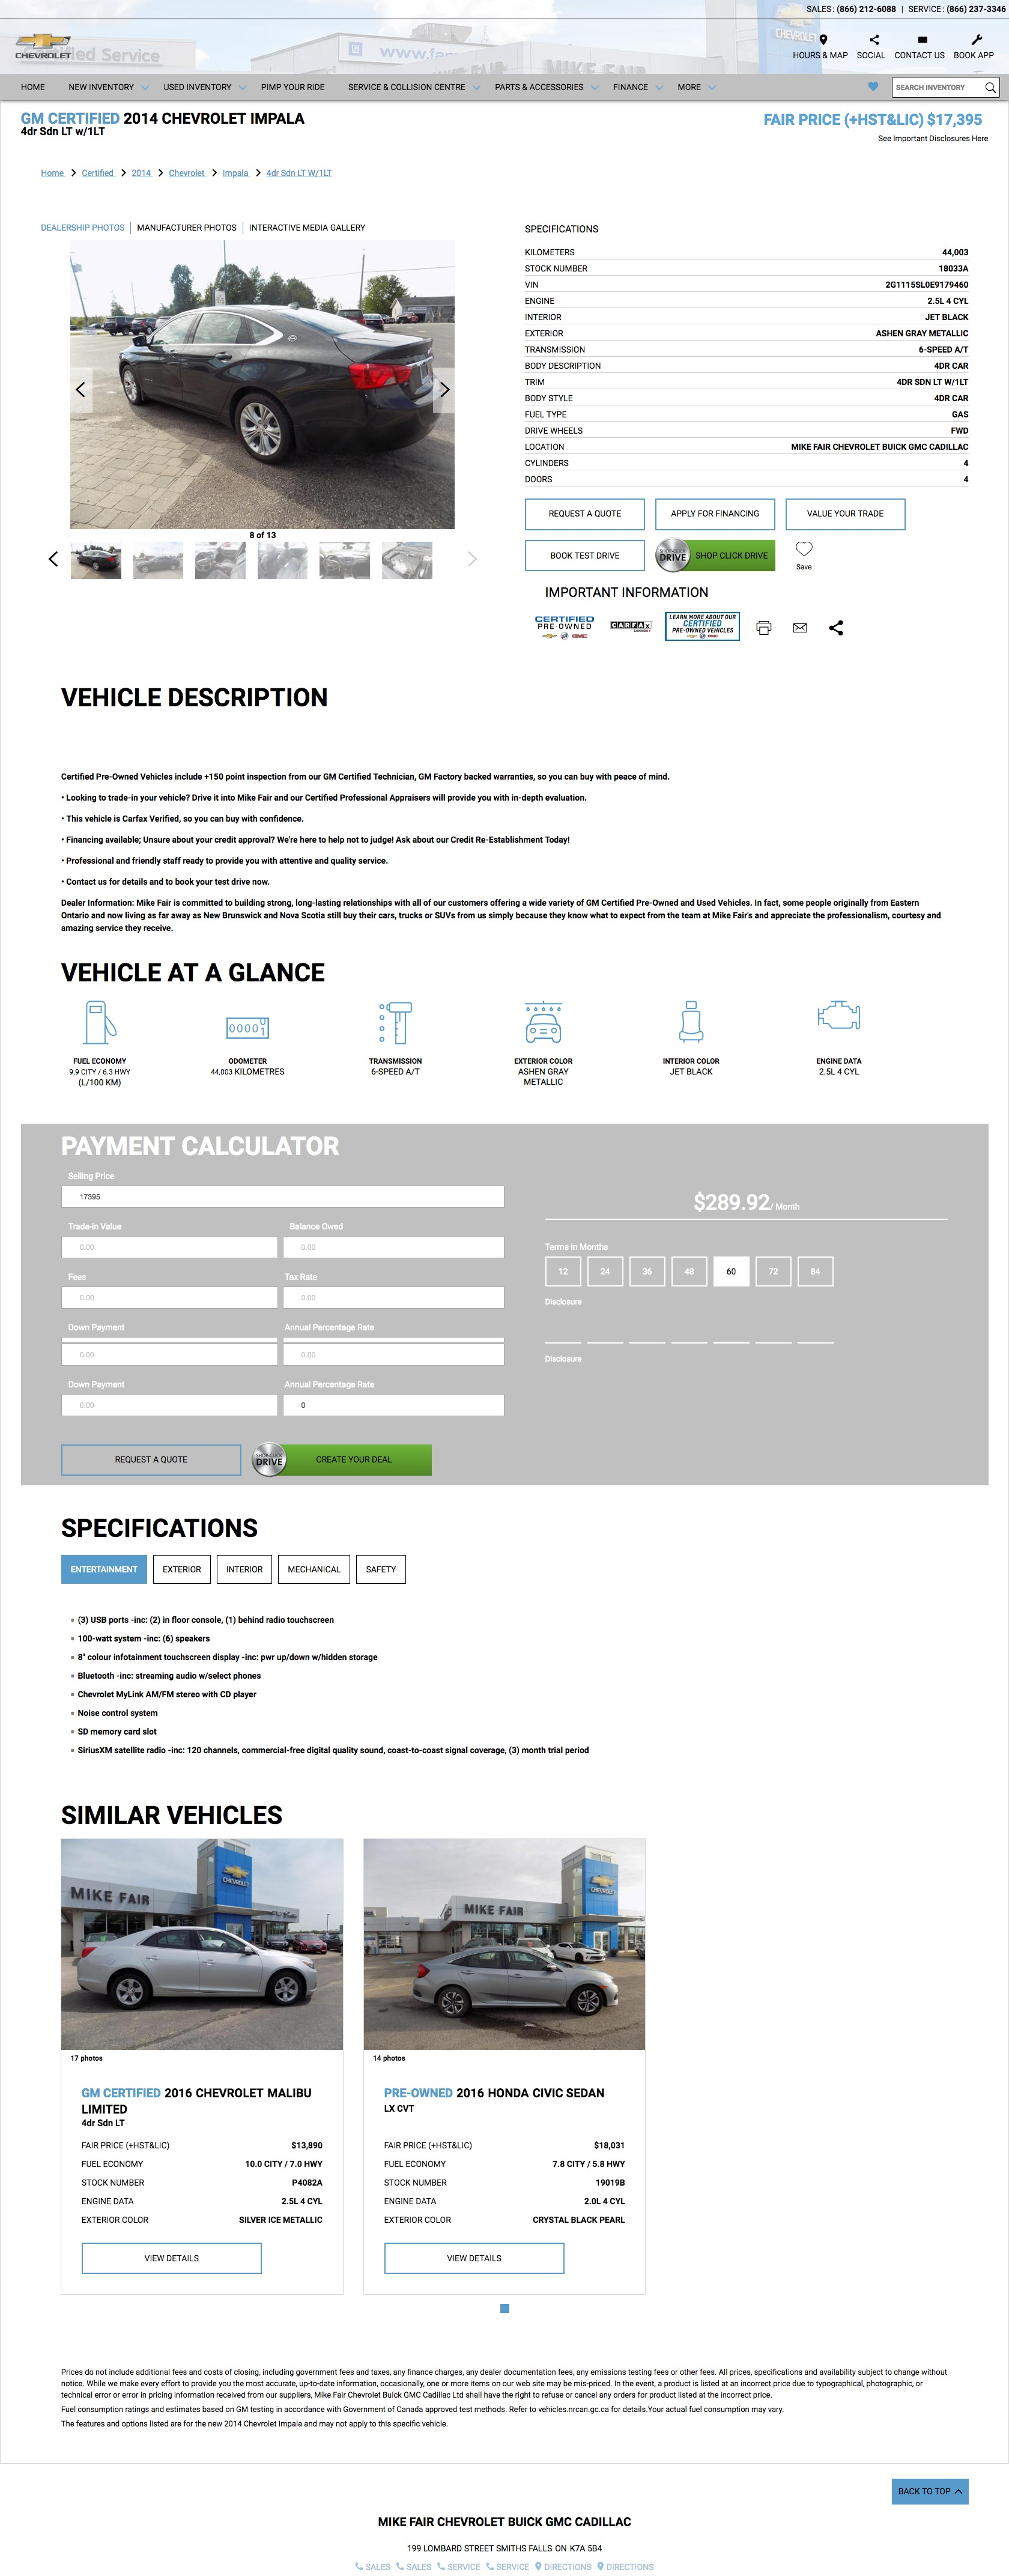car: (468, 552, 478, 567)
